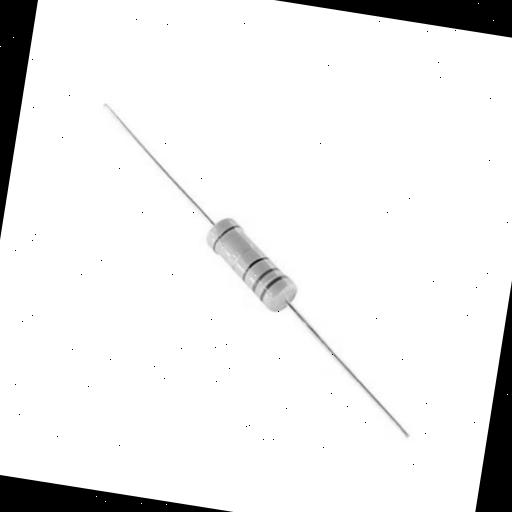RESISTOR: (91, 152, 392, 388)
